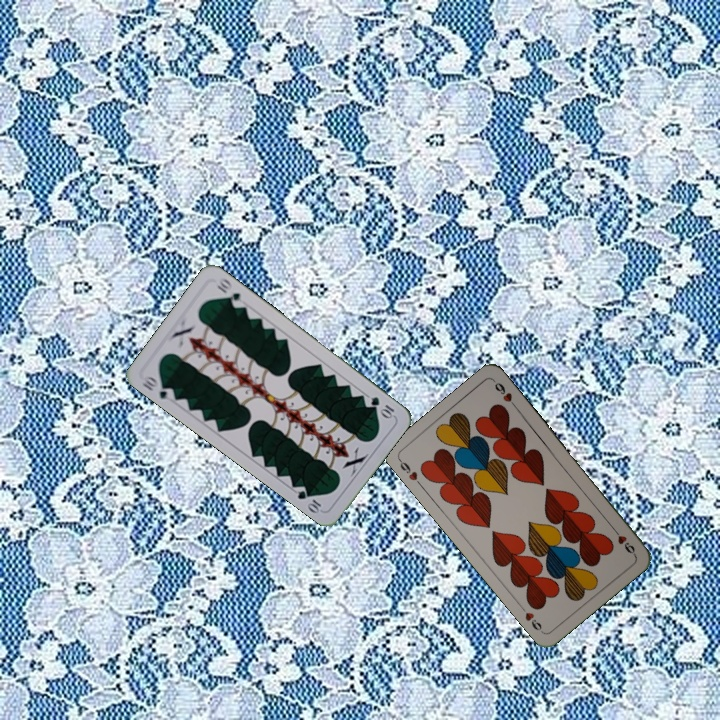G10: (138, 371, 177, 404), (366, 392, 397, 421)
H9: (608, 523, 638, 558), (395, 455, 420, 483)
